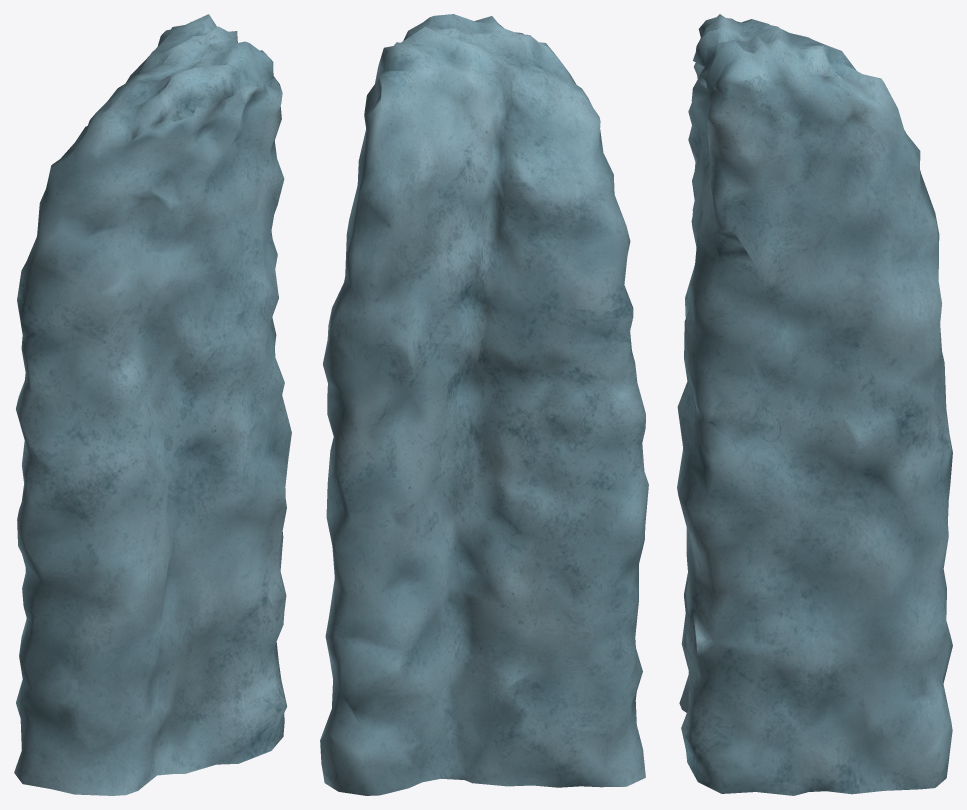
File: Ice_Spire_004.fbx
3 renders of one model, left to right at view 1: azimuth 30°, elevation 25°; view 2: azimuth 150°, elevation 25°; view 3: azimuth 270°, elevation 25°, orthographic. The views are drawn at different scales.
Visible parts, largest first — view 1: Ice_Spire_004_LOD0; view 2: Ice_Spire_004_LOD0; view 3: Ice_Spire_004_LOD0.
Part boxes in pixels (<box>): Ice_Spire_004_LOD0: <box>14,14,291,795</box>; Ice_Spire_004_LOD0: <box>320,14,648,795</box>; Ice_Spire_004_LOD0: <box>677,14,952,795</box>.
Size of what is drawn, in the model's own units: 3.78 by 9.94 by 3.38.
